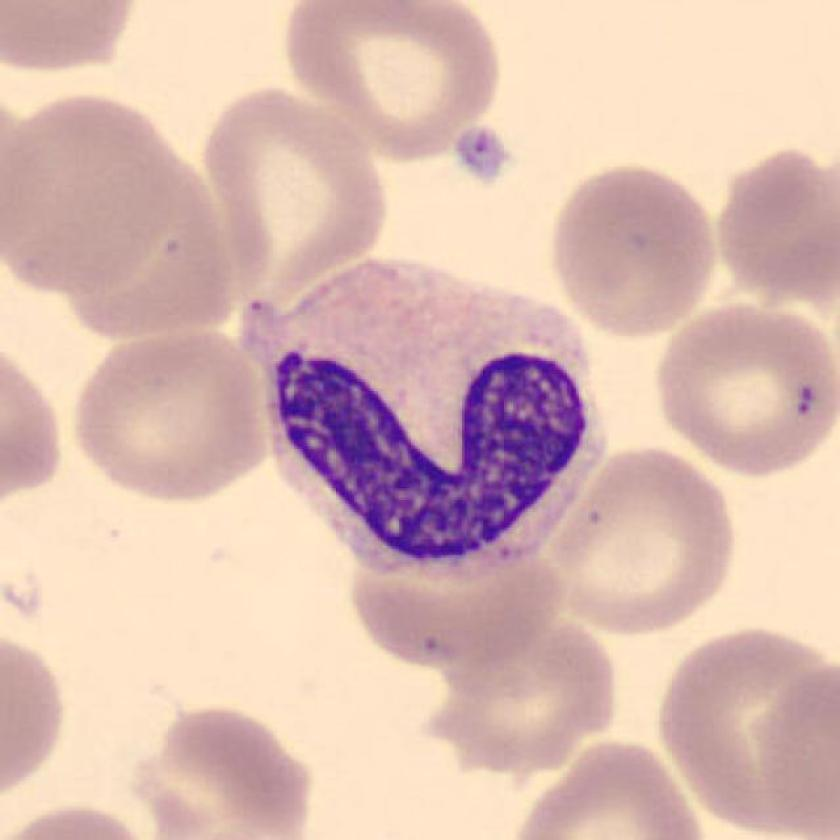neutrophil: (264, 256, 605, 581)
